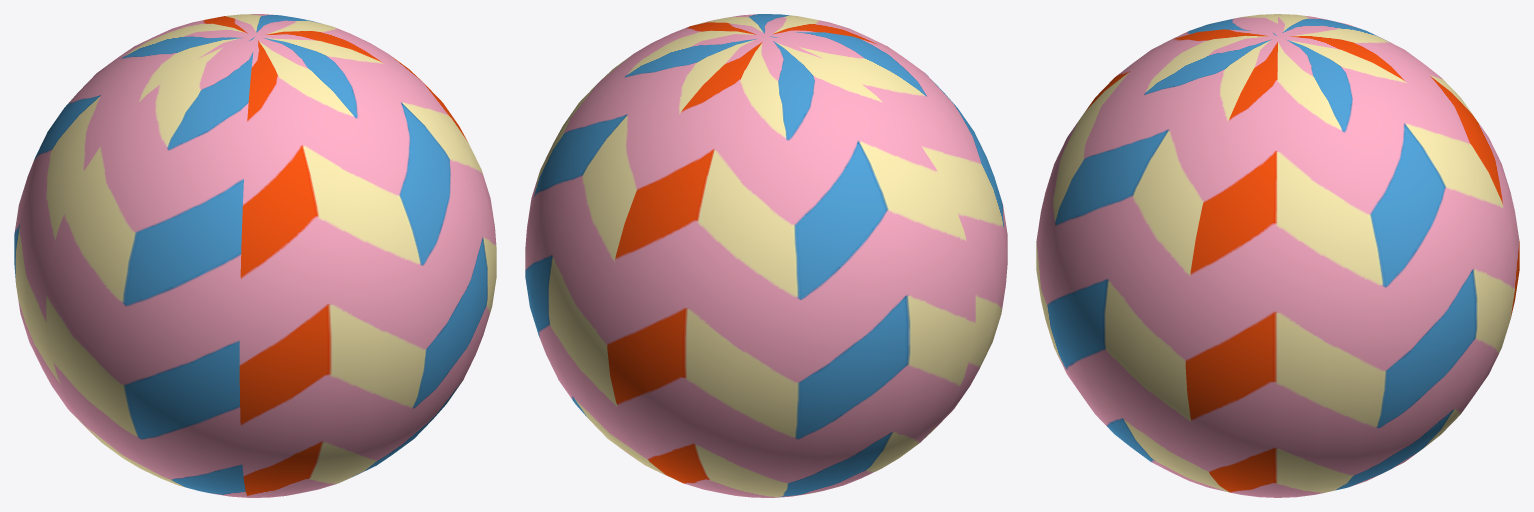
Rendered from M_shere_02.fbx.
The picture shows the model from 3 angles, left to right: view 1: azimuth 30°, elevation 25°; view 2: azimuth 150°, elevation 25°; view 3: azimuth 270°, elevation 25°; orthographic projection.
Visible parts, largest first — view 1: Sphere.001; view 2: Sphere.001; view 3: Sphere.001.
Part boxes in pixels (left/top/right/bottom): Sphere.001: left=14, top=14, right=496, bottom=497; Sphere.001: left=525, top=14, right=1007, bottom=497; Sphere.001: left=1036, top=14, right=1519, bottom=497.
Bounding box in the file's own units: 611 × 612 × 611.
